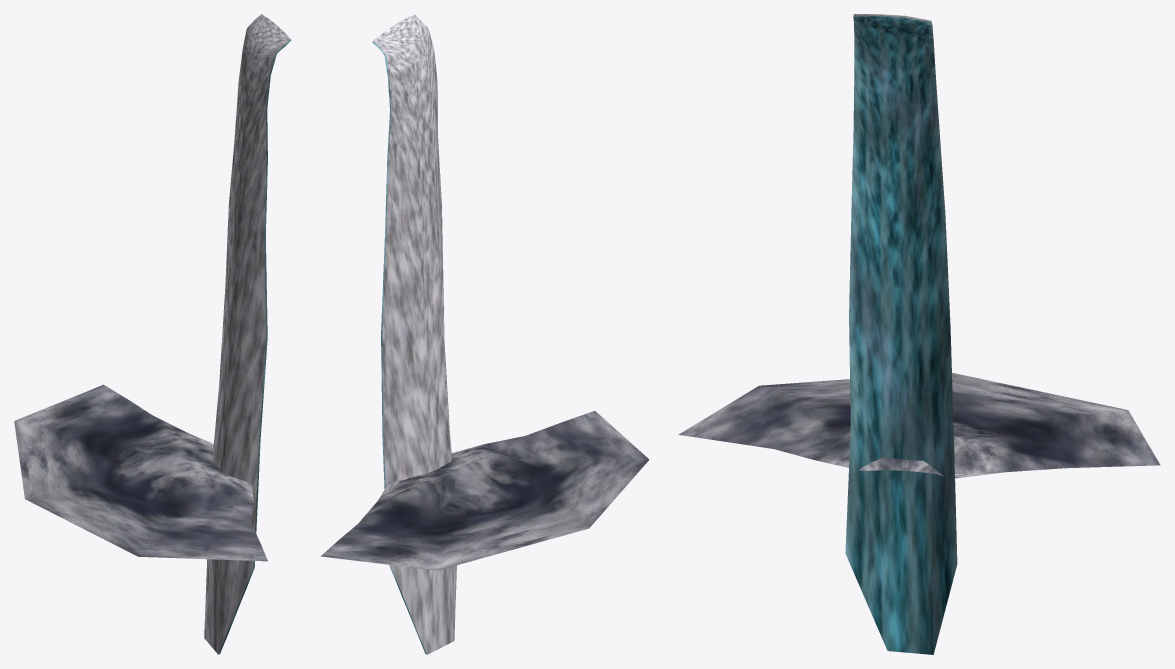
File: EKH_ENTRANCE_PS_EN_WATERFALLS4746.fbx
3 renders of one model, left to right at view 1: azimuth 30°, elevation 25°; view 2: azimuth 150°, elevation 25°; view 3: azimuth 270°, elevation 25°, orthographic. The views are drawn at different scales.
Visible parts, largest first — view 1: EKH_ENTRANCE_PS_EN_WATERFALLS4746; view 2: EKH_ENTRANCE_PS_EN_WATERFALLS4746; view 3: EKH_ENTRANCE_PS_EN_WATERFALLS4746.
Part boxes in pixels (x1,y1,x2,y2): EKH_ENTRANCE_PS_EN_WATERFALLS4746: (14,14,291,654); EKH_ENTRANCE_PS_EN_WATERFALLS4746: (321,14,649,654); EKH_ENTRANCE_PS_EN_WATERFALLS4746: (678,14,1160,654).
Bounding box in the file's own units: 106211 × 271961 × 178163.
Materials: 3 (3 with a texture image).
